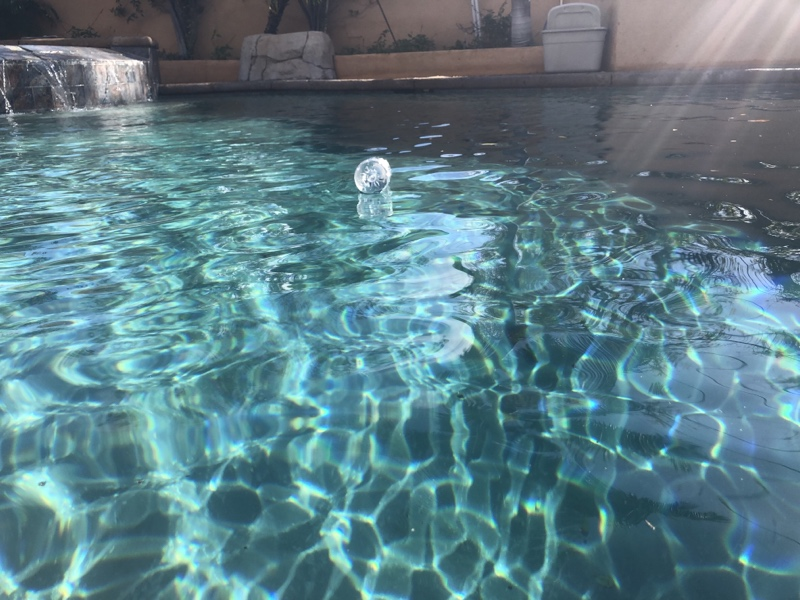Plastic Bottle: (351, 153, 392, 196)
